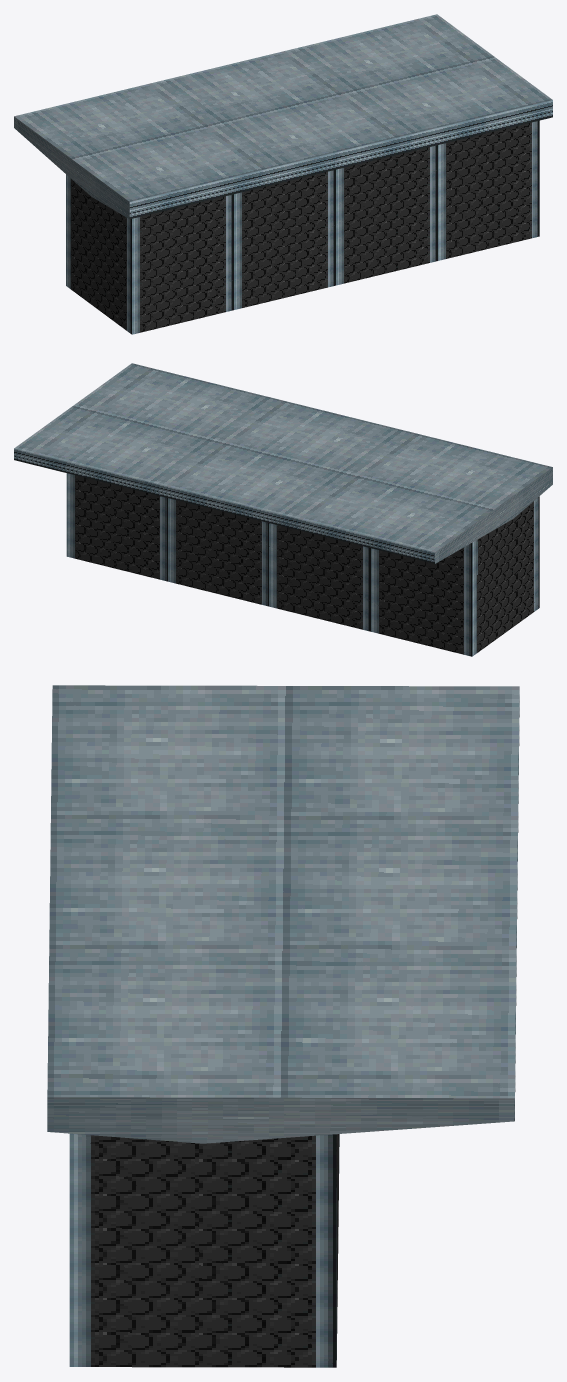
Rendered from primary_058.glb.
3 views of the same model, one above another, from view 1: azimuth 30°, elevation 25°; view 2: azimuth 150°, elevation 25°; view 3: azimuth 270°, elevation 25° (orthographic). The views are drawn at different scales.
Parts seen in each view (by area): view 1: Object; view 2: Object; view 3: Object.
Part boxes in pixels (left/top/right/bottom): Object: left=14, top=14, right=552, bottom=334; Object: left=14, top=363, right=552, bottom=656; Object: left=47, top=685, right=519, bottom=1367.
Bounding box in the file's own units: 3.26 × 1.02 × 1.57.
3 materials, 3 textured.
